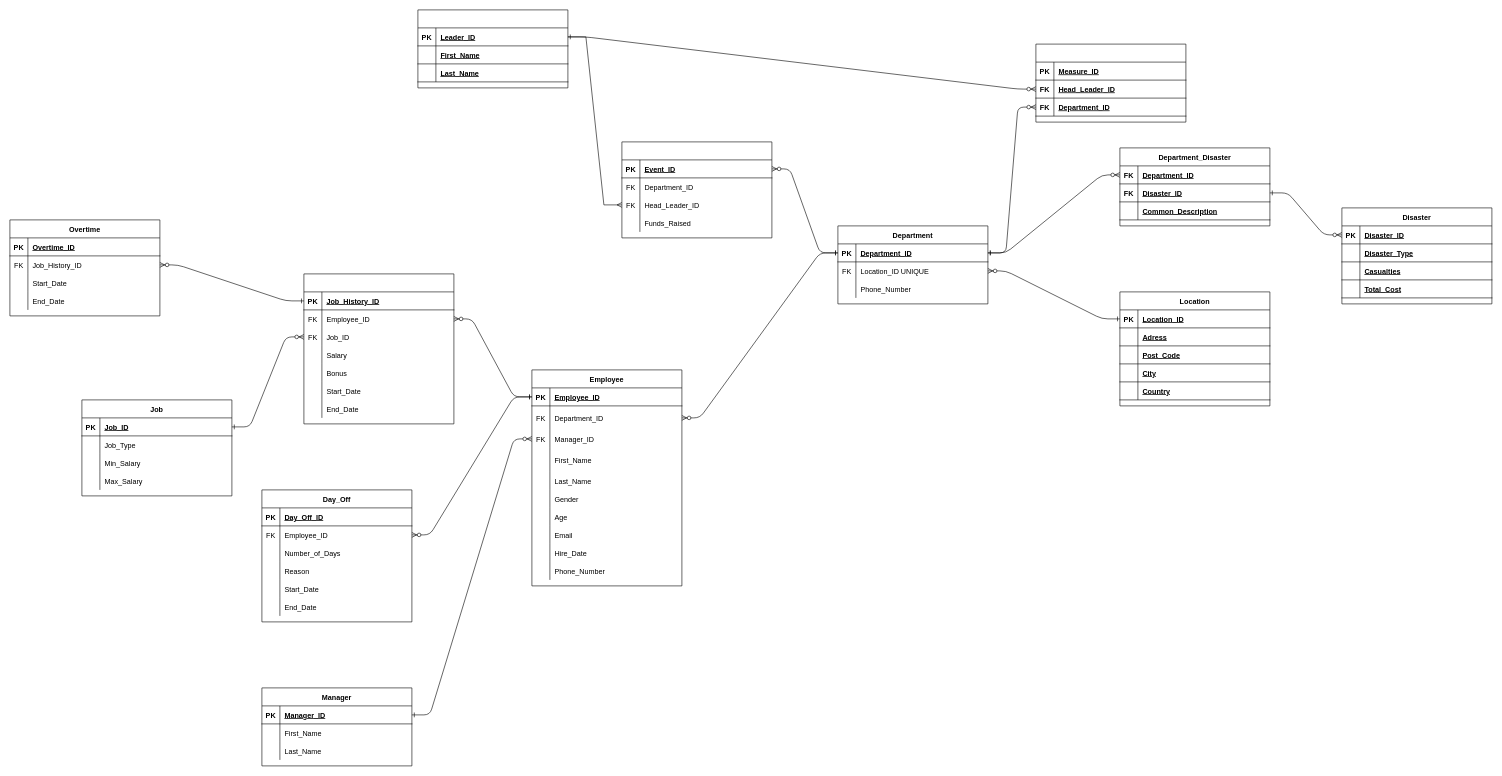
Image size: 1502x776. Some labels were removed from this diagram. The box of each missing label's shape, as (x1, y1, x2, y2) in pixels:
Charity_Event: (621, 141, 772, 238)
Employee_Job_History: (303, 273, 454, 424)
Head_Leader: (417, 9, 568, 88)
Preventive_Measure: (1035, 44, 1186, 122)
